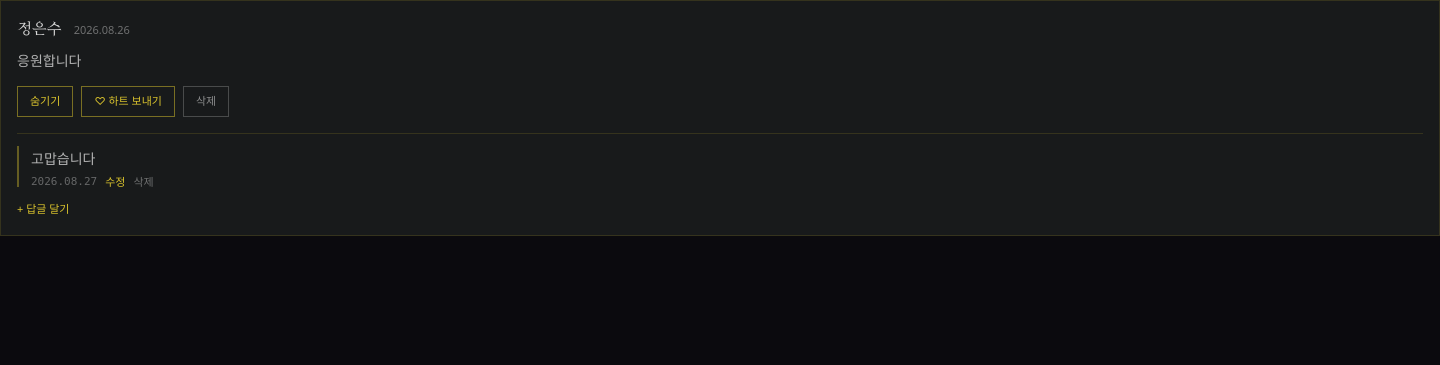
Test: GuestbookAdmin › edits in place — 고치기 는 새 답글이 아니라 그 답글을 가리킨다
Click the button with aria-label "답글 수정".
click(115, 182)  # box left=105, top=176, right=126, bottom=187
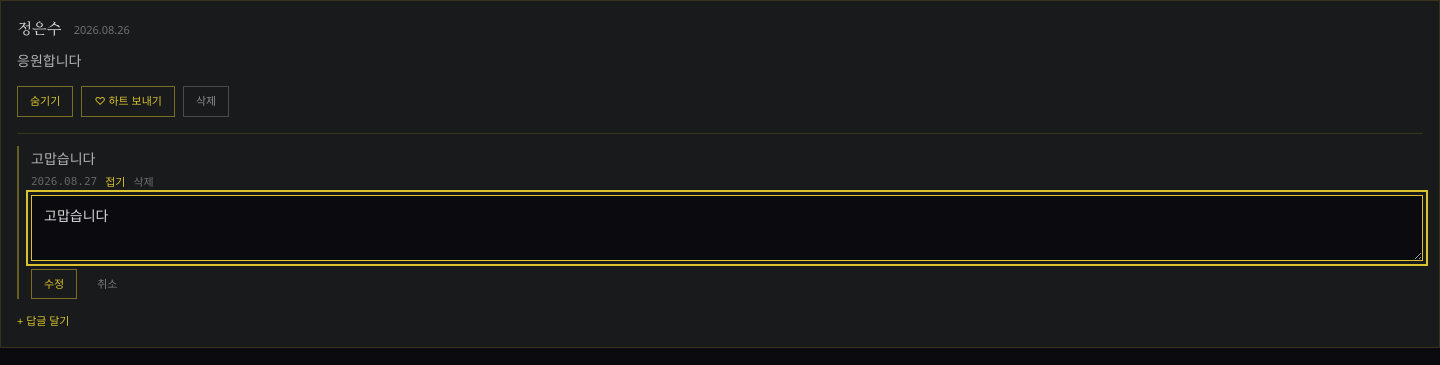
expect the element named "replyId" is shown: met, box left=31, top=175, right=126, bottom=188
expect the text box named "답글 내용" holds "고맙습니다": met, box left=31, top=195, right=1423, bottom=261
